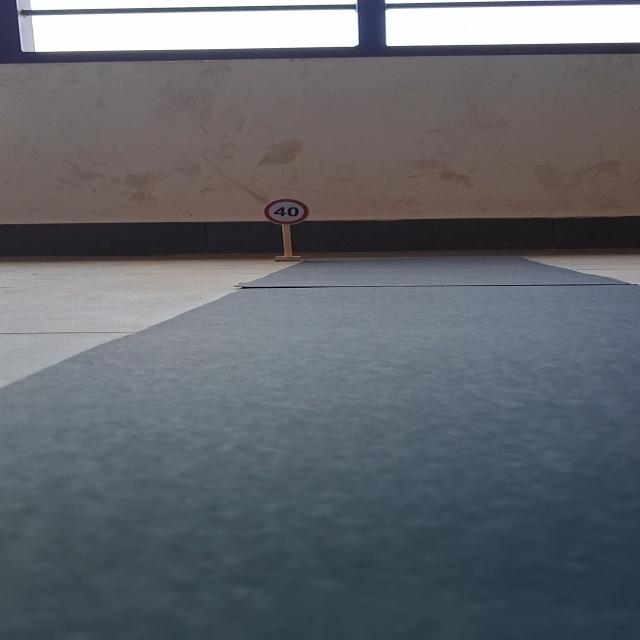Speed40: (253, 194, 320, 228)
